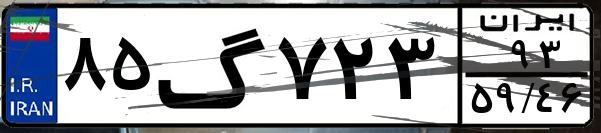2: (330, 28, 385, 110)
3: (385, 28, 445, 110), (537, 27, 568, 80)
4: (535, 70, 560, 125)
5: (110, 28, 156, 98), (470, 70, 495, 125)
6: (560, 70, 590, 125)
7: (270, 28, 330, 110)
8: (57, 26, 110, 100)
9: (508, 27, 537, 80), (495, 70, 520, 125)
گ: (156, 12, 270, 120)
